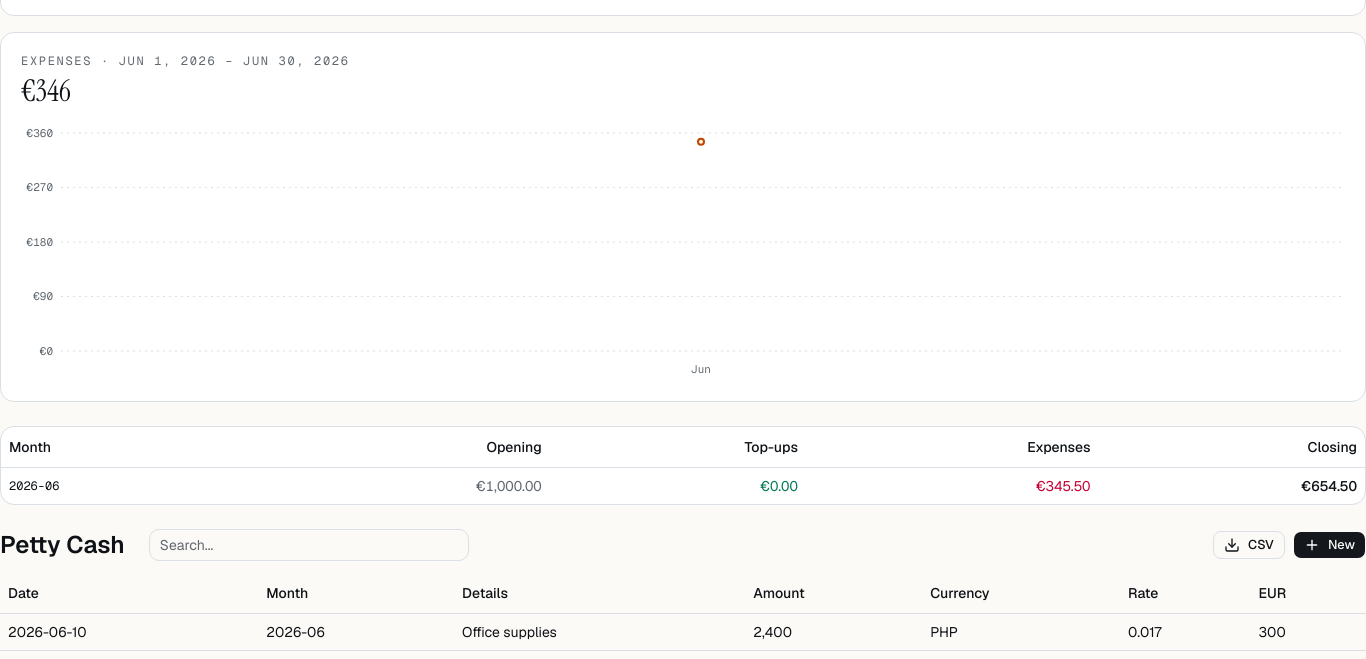
Scenario: Petty Cash search narrows the summary cards › follows a search typed into the grid box, not just the period
(page scrolled)
In the field with placeholder "Search...": (309, 544) [149,528,469,560], type "Office"
(page scrolled)
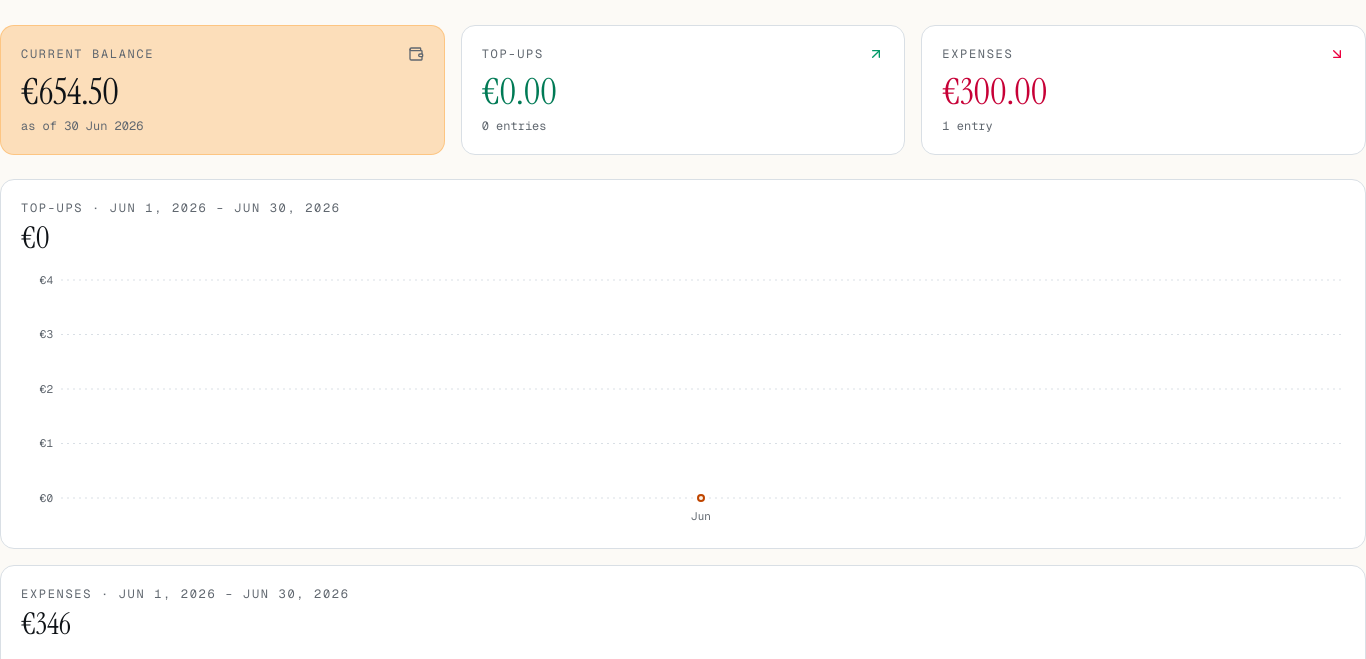
Expected: the text "€345.50" is not shown
Expected: the text "€300.00" is shown, [942,68,1047,115]
Expected: the text "1 entry" is shown, [942,118,993,134]
